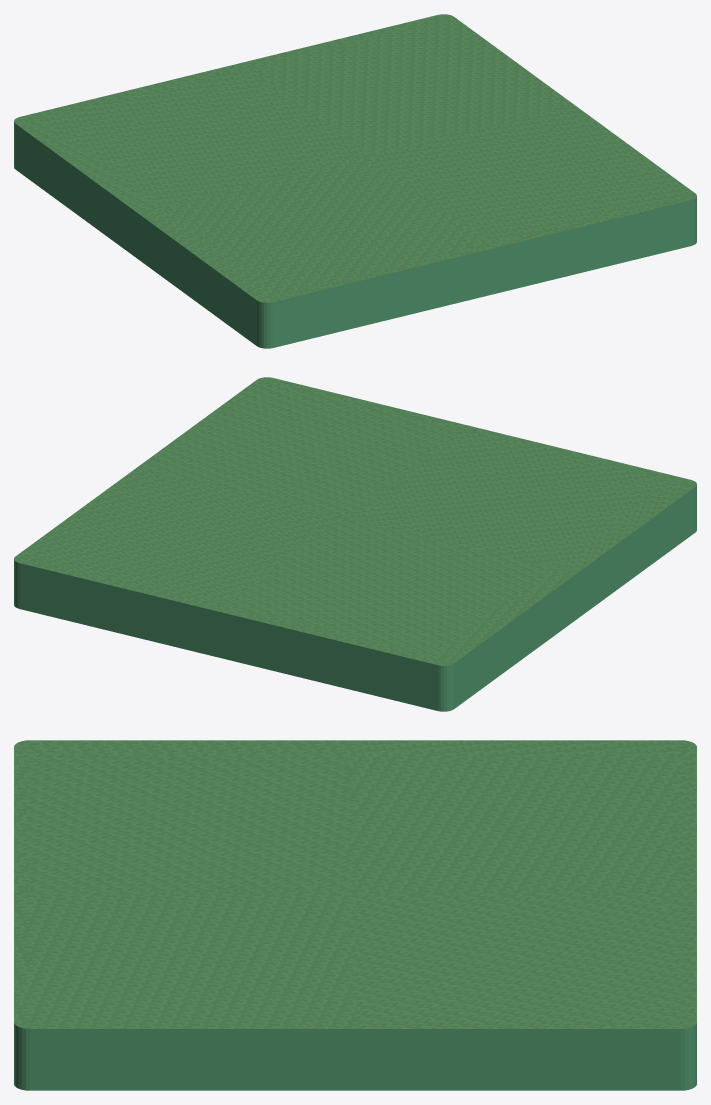
Rendered from grassBake.glb.
3 renders of one model, top to bottom at view 1: azimuth 30°, elevation 25°; view 2: azimuth 150°, elevation 25°; view 3: azimuth 270°, elevation 25°, orthographic. The views are drawn at different scales.
Visible parts, largest first — view 1: Grass_Baked; view 2: Grass_Baked; view 3: Grass_Baked.
Part boxes in pixels (x1,y1,x2,y2): Grass_Baked: (14,14,696,348); Grass_Baked: (14,377,696,711); Grass_Baked: (14,740,696,1090).
Size of the model in its own units: 2000 by 200 by 2000.
Materials: 1 (1 with a texture image).
